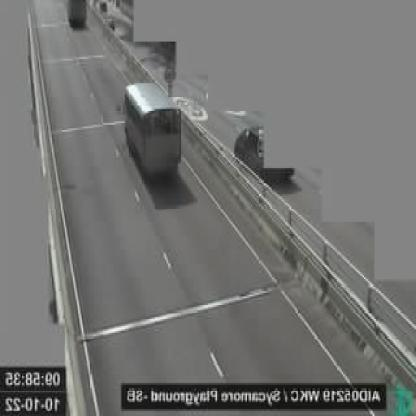Truck: (122, 85, 184, 178), (64, 0, 88, 25)
